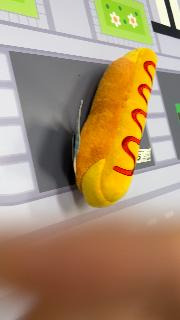hotdog: (74, 49, 158, 209)
